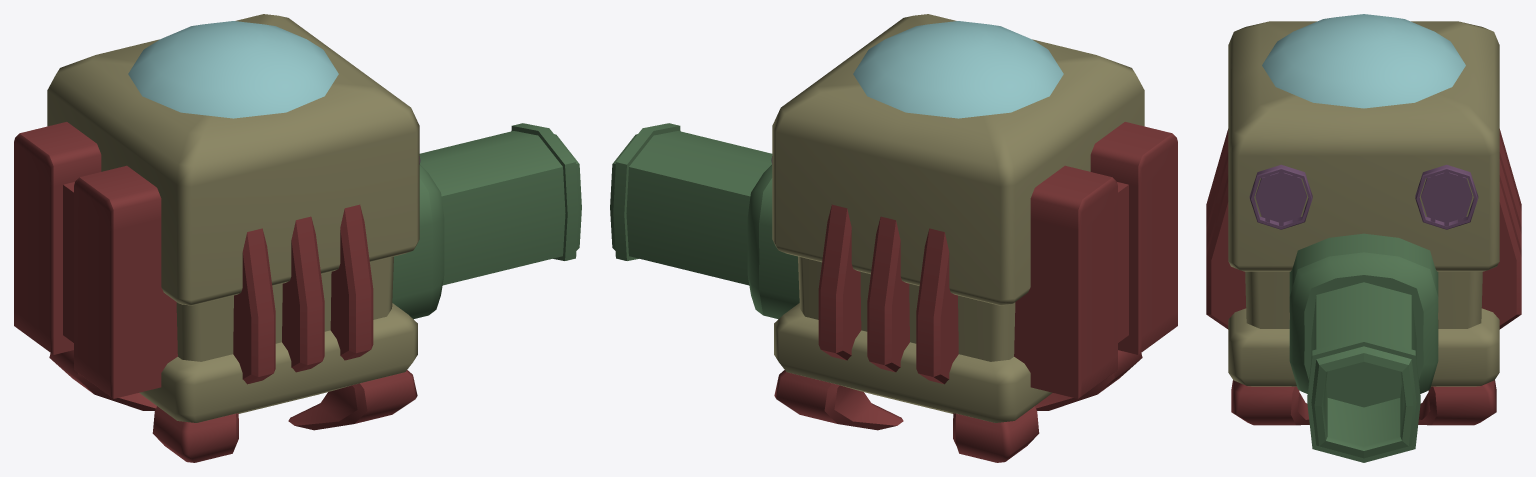
Rendered from Mesh_EnemySmall_Basic.fbx.
The picture shows the model from 3 angles, left to right: view 1: azimuth 30°, elevation 25°; view 2: azimuth 150°, elevation 25°; view 3: azimuth 270°, elevation 25°; orthographic projection. The views are drawn at different scales.
Parts seen in each view (by area): view 1: pCube10, pCube9, pCube4, polySurface2, pCube16, pSphere2, pCube15, pCube6; view 2: pCube10, pCube9, pCube4, polySurface2, pCube16, pSphere2, pCube15, pCube6; view 3: pCube10, pCube4, pSphere2, polySurface2, pCube6, pCube16, pCube15, pCube7, pCube5, pCube14.
Boxes of the visible parts, bbox=[...] form: pCube10: bbox=[47, 14, 419, 305]; pCube9: bbox=[14, 122, 177, 398]; pCube4: bbox=[419, 123, 581, 285]; polySurface2: bbox=[139, 256, 417, 422]; pCube16: bbox=[233, 204, 373, 384]; pSphere2: bbox=[128, 21, 338, 118]; pCube15: bbox=[49, 350, 417, 462]; pCube6: bbox=[392, 165, 444, 319]; pCube10: bbox=[772, 14, 1144, 305]; pCube9: bbox=[1014, 122, 1177, 398]; pCube4: bbox=[610, 123, 772, 285]; polySurface2: bbox=[774, 256, 1052, 422]; pCube16: bbox=[818, 204, 958, 384]; pSphere2: bbox=[853, 21, 1063, 118]; pCube15: bbox=[774, 350, 1142, 462]; pCube6: bbox=[747, 165, 799, 319]; pCube10: bbox=[1228, 21, 1499, 271]; pCube4: bbox=[1307, 282, 1420, 462]; pSphere2: bbox=[1262, 14, 1465, 108]; polySurface2: bbox=[1228, 271, 1499, 386]; pCube6: bbox=[1289, 233, 1438, 393]; pCube16: bbox=[1206, 129, 1521, 329]; pCube15: bbox=[1231, 380, 1496, 425]; pCube7: bbox=[1255, 172, 1472, 222]; pCube5: bbox=[1249, 164, 1478, 229]; pCube14: bbox=[1265, 172, 1462, 226].
Size of the model in its own units: 204 by 148 by 116.
